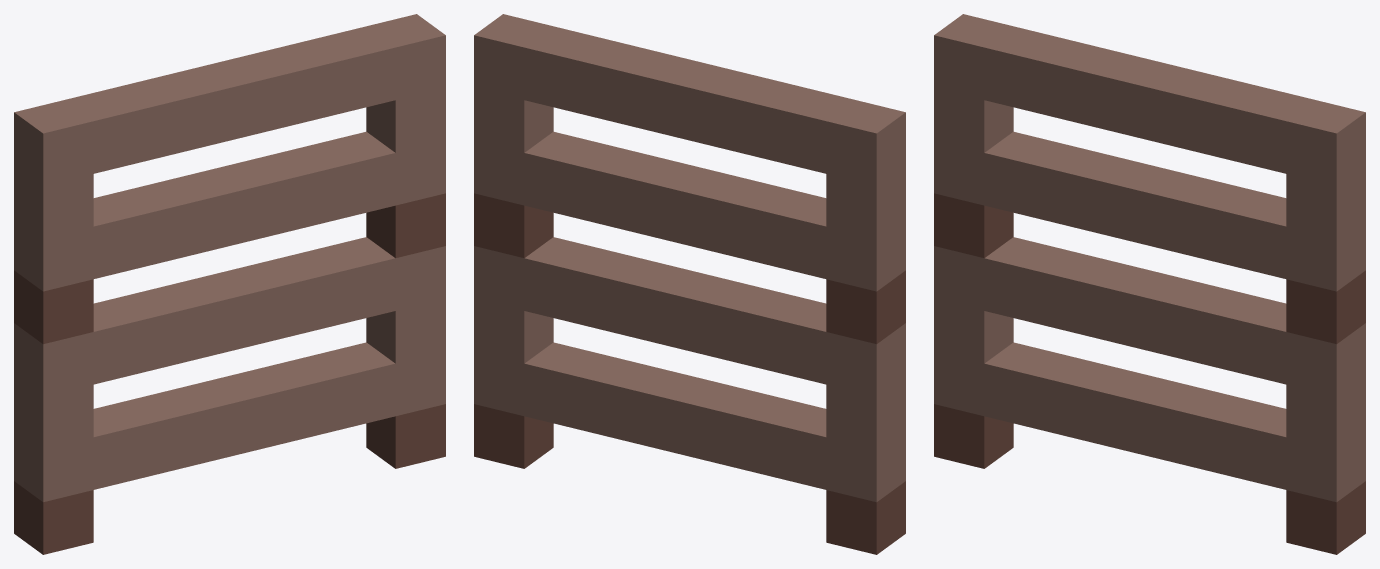
Rendered from Pear Ladder.glb.
3 renders of one model, left to right at view 1: azimuth 30°, elevation 25°; view 2: azimuth 150°, elevation 25°; view 3: azimuth 330°, elevation 25°, orthographic.
Visible parts, largest first — view 1: Untitled; view 2: Untitled; view 3: Untitled.
Part boxes in pixels (left/top/right/bottom): Untitled: left=14, top=14, right=445, bottom=554; Untitled: left=474, top=14, right=905, bottom=554; Untitled: left=934, top=14, right=1365, bottom=554.
Bounding box in the file's own units: 0.8 × 0.8 × 0.1.
Materials: 1 (1 with a texture image).
